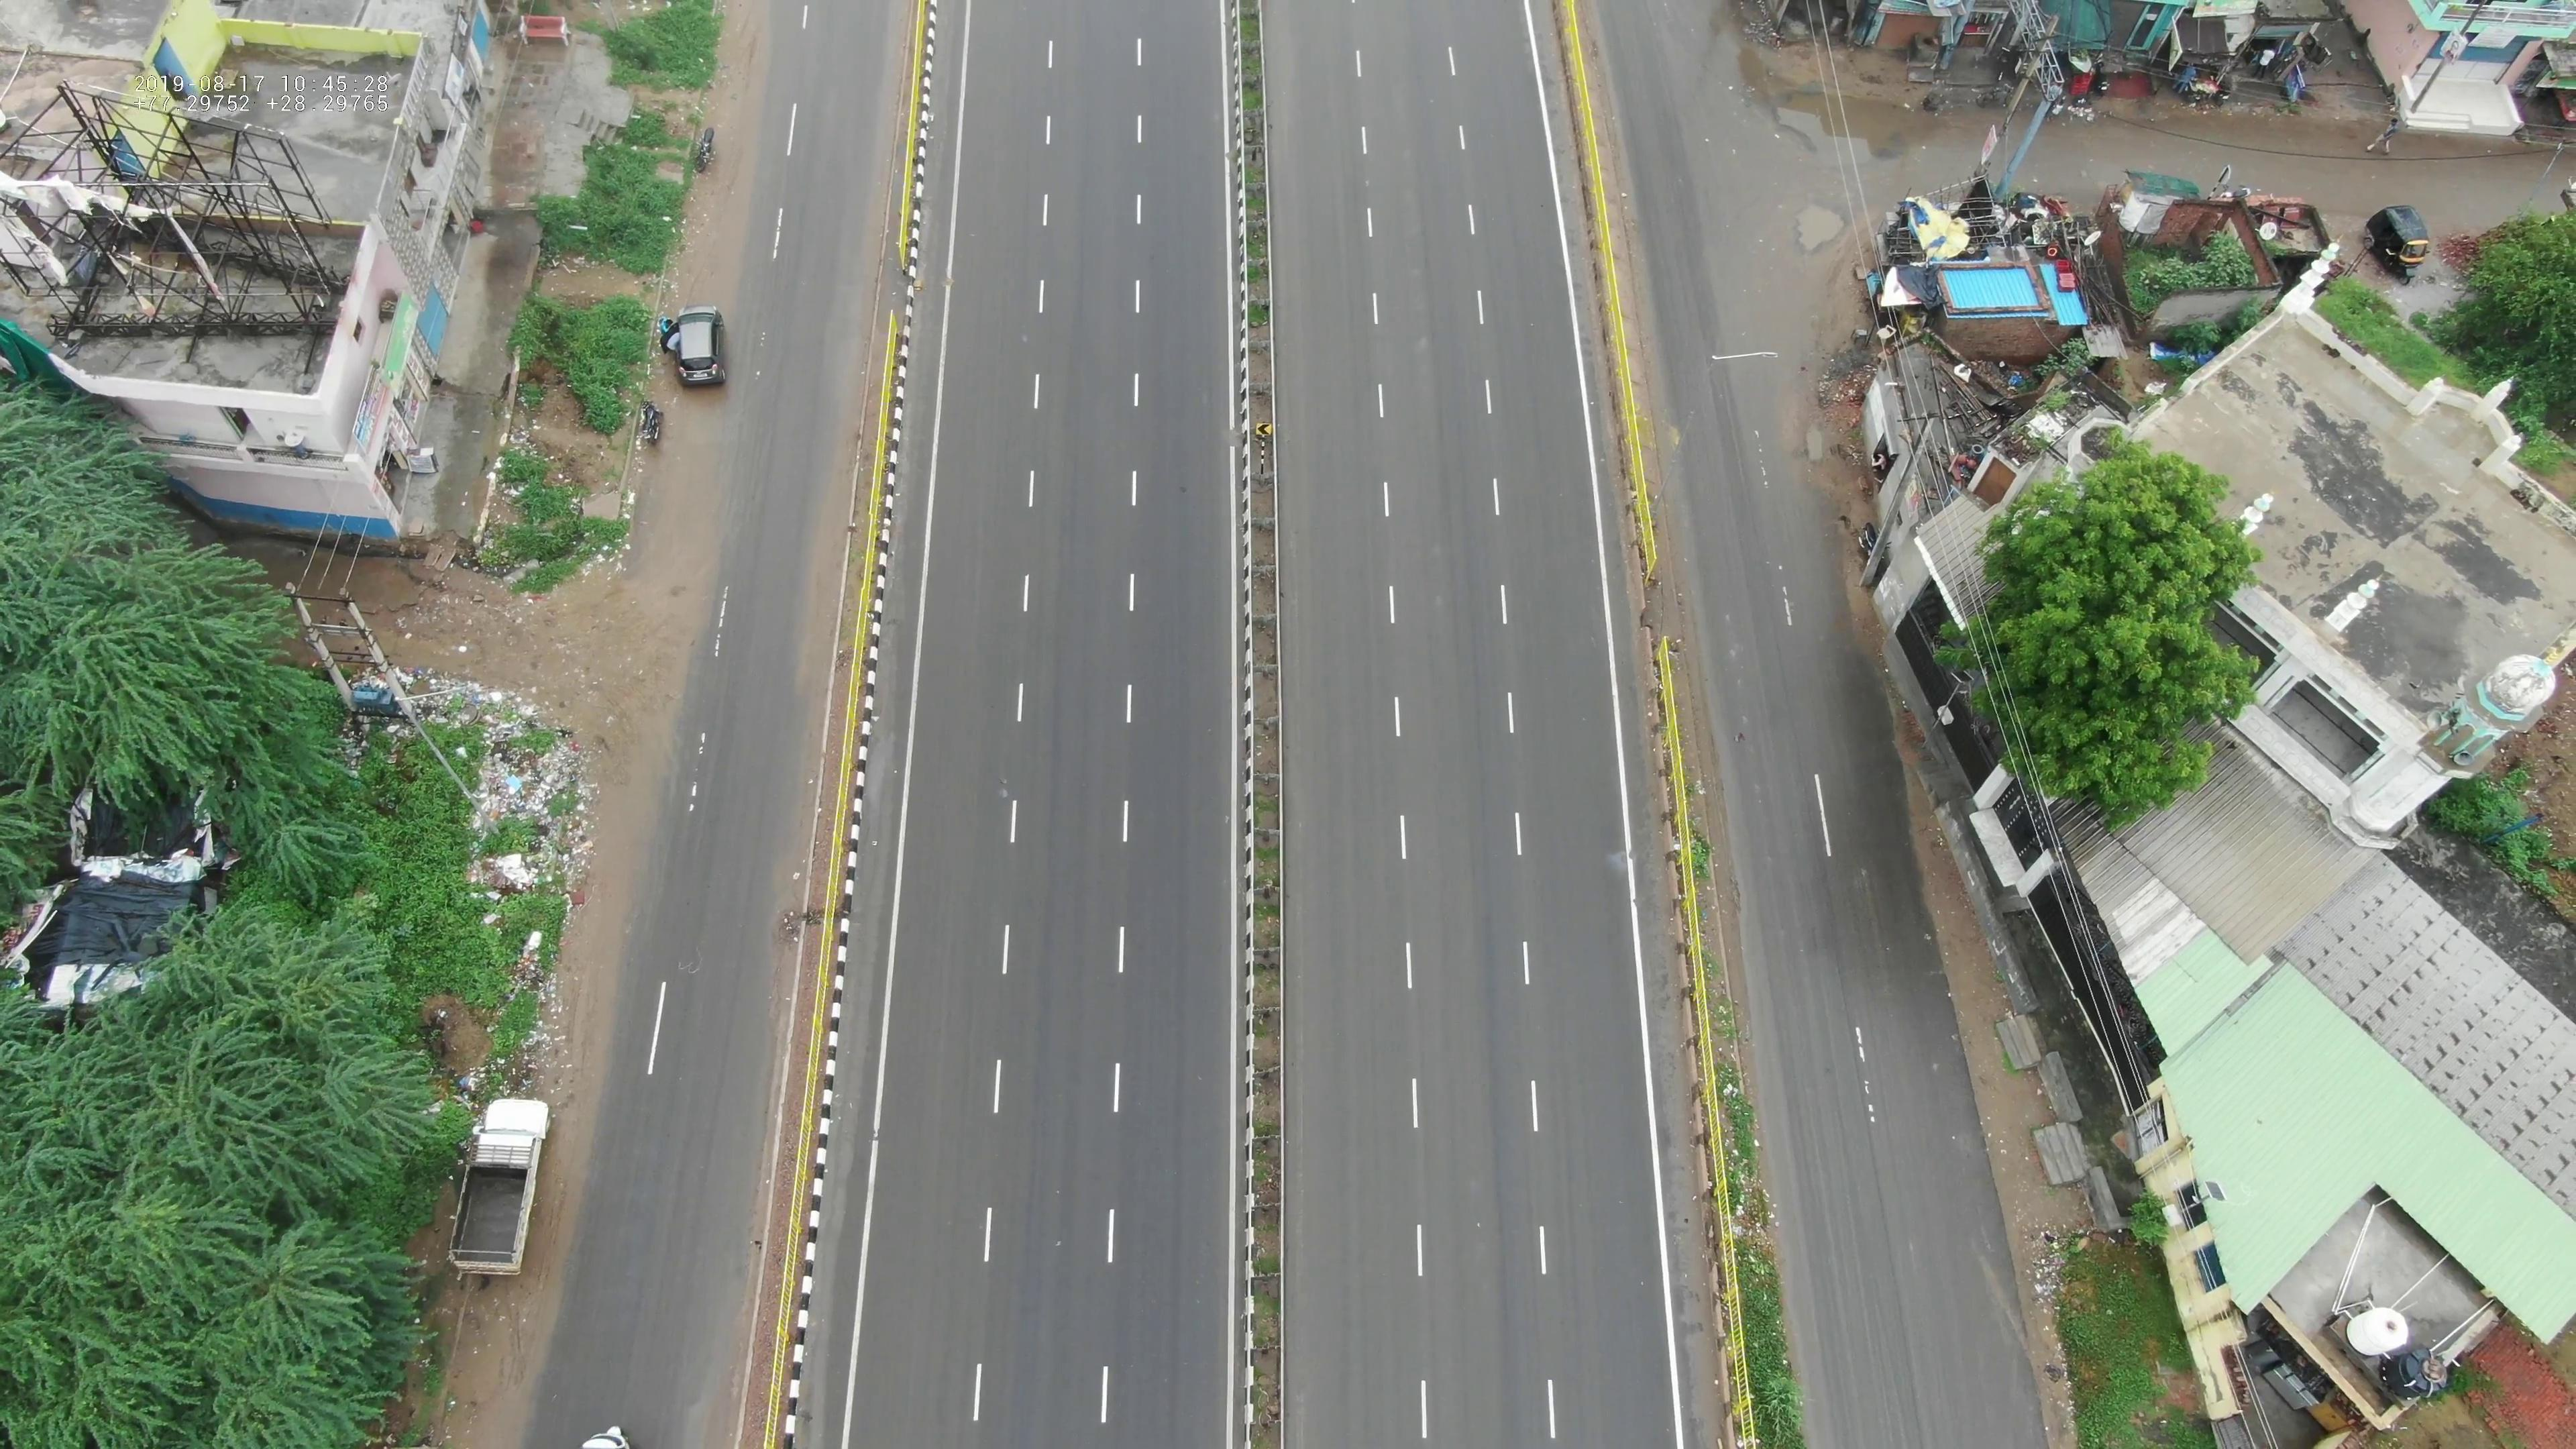Road_side_garbage: (377, 660, 600, 902)
